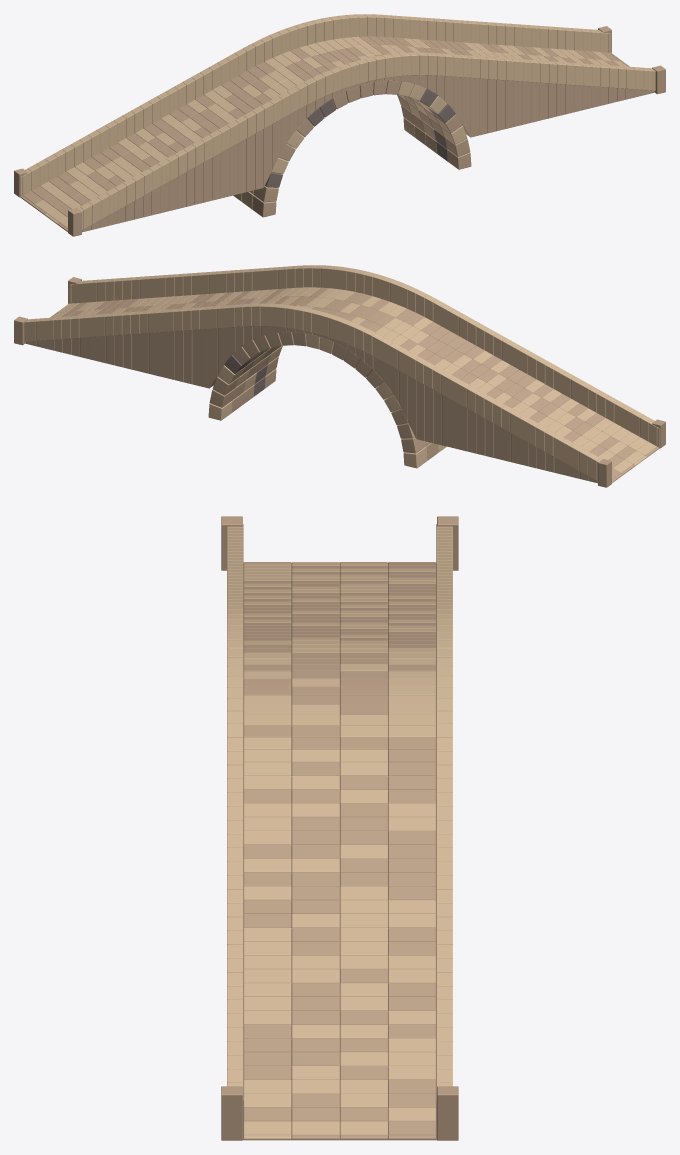
Rendered from ashwick-stone-bridge.meshopt.glb.
The picture shows the model from 3 angles, top to bottom: view 1: azimuth 30°, elevation 25°; view 2: azimuth 150°, elevation 25°; view 3: azimuth 270°, elevation 25°; orthographic projection. The views are drawn at different scales.
Visible parts, largest first — view 1: Stone parapets.001, Vault backing.001, Road pavers.002, Road pavers.003, Bridge barrel.003, Bridge barrel.005, Bridge barrel.004, Parapet terminal.001; view 2: Stone parapets.001, Vault backing.001, Road pavers.002, Road pavers.003, Bridge barrel.003, Bridge barrel.005, Parapet terminal.001, Bridge barrel.004; view 3: Road pavers.002, Road pavers.003, Stone parapets.001, Parapet terminal.001, Vault backing.001.
Boxes of the visible parts, box(x1,y1,x2,y2) form: Stone parapets.001: box(20, 14, 655, 230); Vault backing.001: box(20, 75, 654, 232); Road pavers.002: box(21, 36, 629, 231); Road pavers.003: box(35, 36, 627, 228); Bridge barrel.003: box(252, 80, 471, 217); Bridge barrel.005: box(233, 81, 467, 209); Bridge barrel.004: box(265, 89, 455, 187); Parapet terminal.001: box(14, 26, 665, 236); Stone parapets.001: box(24, 265, 659, 481); Vault backing.001: box(25, 326, 659, 483); Road pavers.002: box(50, 287, 659, 482); Road pavers.003: box(52, 287, 656, 472); Bridge barrel.003: box(209, 331, 438, 460); Bridge barrel.005: box(208, 333, 446, 468); Parapet terminal.001: box(14, 277, 665, 487); Bridge barrel.004: box(224, 355, 267, 396); Road pavers.002: box(243, 562, 435, 1139); Road pavers.003: box(243, 562, 435, 1139); Stone parapets.001: box(227, 524, 452, 1138); Parapet terminal.001: box(221, 516, 458, 1140); Vault backing.001: box(243, 563, 436, 1140).
Bounding box in the file's own units: 17.2 × 3.63 × 2.98.
